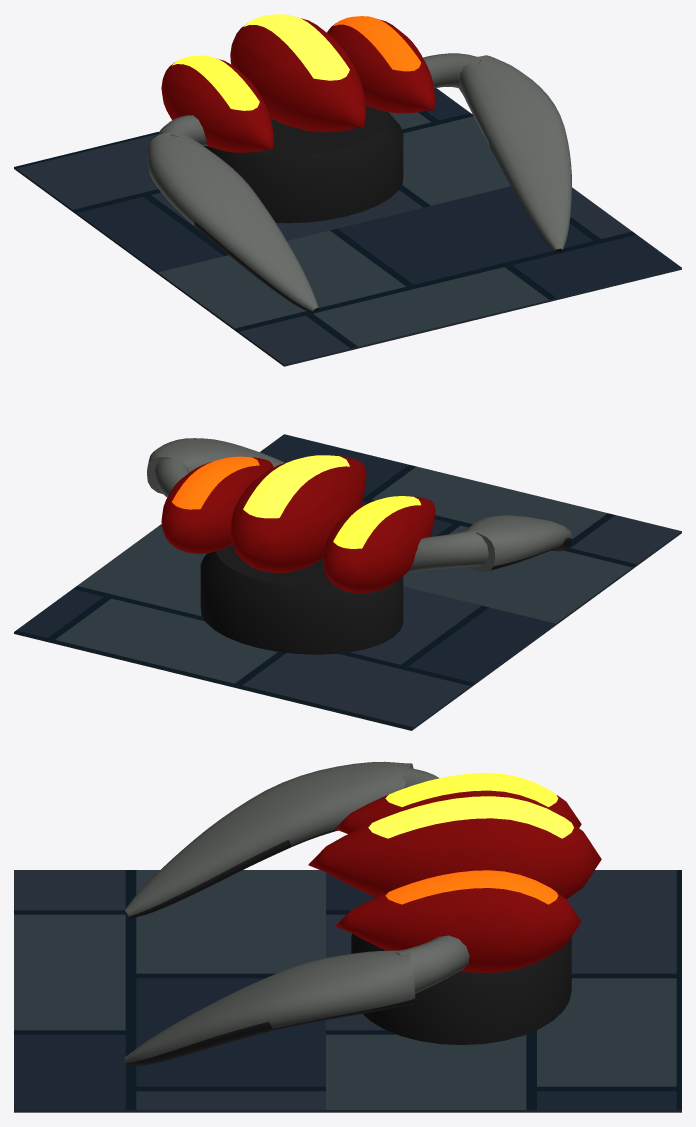
Rendered from glass_hatch_11.glb.
3 renders of one model, top to bottom at view 1: azimuth 30°, elevation 25°; view 2: azimuth 150°, elevation 25°; view 3: azimuth 270°, elevation 25°, orthographic. The views are drawn at different scales.
Visible parts, largest first — view 1: pit_floor, base, blade_r, blade, pod1, pod0, pod2, claw_r, claw; view 2: pit_floor, base, pod1, pod0, pod2, blade, claw, blade_r, claw_r; view 3: pit_floor, pod1, pod2, blade, blade_r, base, pod0, claw_r.
Boxes of the visible parts, left/top/right/bottom form: pit_floor: left=14, top=88, right=681, bottom=366; base: left=204, top=106, right=403, bottom=223; blade_r: left=459, top=55, right=571, bottom=252; blade: left=147, top=132, right=318, bottom=312; pod1: left=230, top=14, right=366, bottom=132; pod0: left=161, top=55, right=273, bottom=152; pod2: left=327, top=16, right=435, bottom=113; claw_r: left=423, top=53, right=481, bottom=88; claw: left=158, top=115, right=207, bottom=146; pit_floor: left=14, top=434, right=681, bottom=730; base: left=200, top=544, right=403, bottom=654; pod1: left=230, top=455, right=366, bottom=572; pod0: left=323, top=496, right=435, bottom=593; pod2: left=161, top=456, right=273, bottom=553; blade: left=466, top=515, right=571, bottom=572; claw: left=407, top=529, right=488, bottom=573; blade_r: left=147, top=438, right=284, bottom=493; claw_r: left=154, top=455, right=189, bottom=497; pit_floor: left=14, top=870, right=681, bottom=1112; pod1: left=308, top=796, right=601, bottom=899; pod2: left=335, top=870, right=581, bottom=972; blade: left=124, top=761, right=413, bottom=918; blade_r: left=124, top=950, right=415, bottom=1066; base: left=351, top=897, right=571, bottom=1044; pod0: left=335, top=773, right=581, bottom=833; claw_r: left=395, top=935, right=469, bottom=993.
Size of the model in its own units: 17 by 7.7 by 20.
